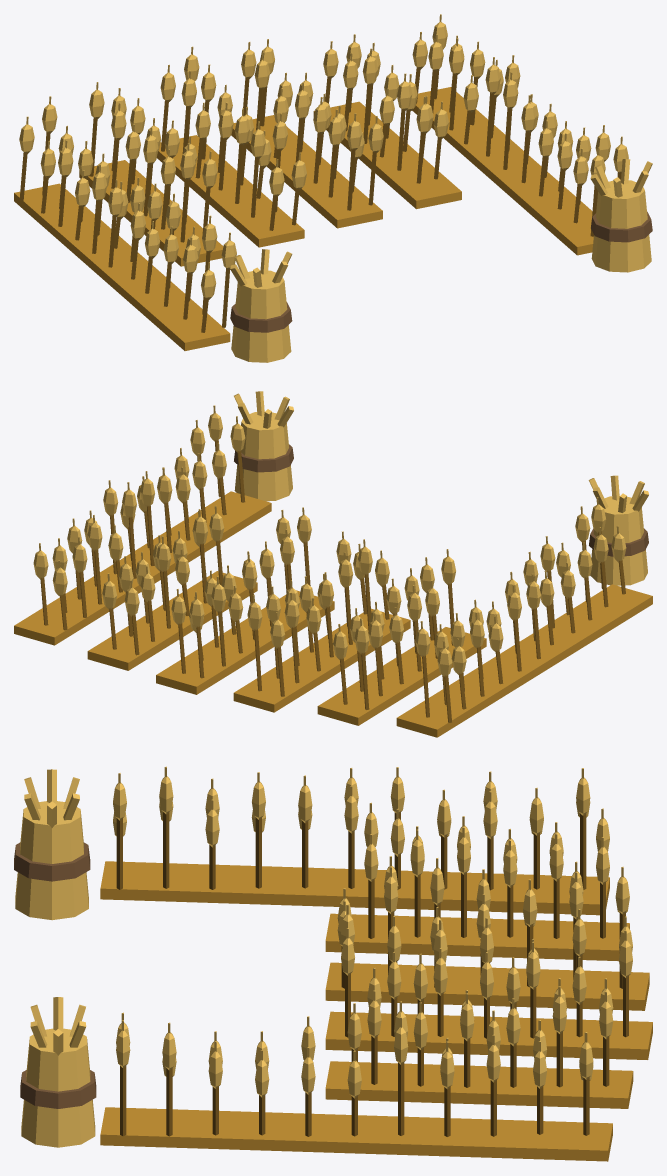
The model's file is terrain-field-1.glb.
The picture shows the model from 3 angles, top to bottom: view 1: azimuth 30°, elevation 25°; view 2: azimuth 150°, elevation 25°; view 3: azimuth 270°, elevation 25°; orthographic projection. The views are drawn at different scales.
Parts seen in each view (by area): view 1: terrain-field-1.002, terrain-field-1, terrain-field-1.001, terrain-field-1.003; view 2: terrain-field-1.002, terrain-field-1, terrain-field-1.001, terrain-field-1.003; view 3: terrain-field-1, terrain-field-1.002, terrain-field-1.001, terrain-field-1.003.
Part boxes in pixels (x1,y1,x2,y2): terrain-field-1.002: [19, 14, 652, 362]; terrain-field-1: [14, 87, 593, 350]; terrain-field-1.001: [19, 67, 621, 332]; terrain-field-1.003: [230, 211, 652, 332]; terrain-field-1.002: [33, 391, 648, 676]; terrain-field-1: [14, 491, 652, 737]; terrain-field-1.001: [40, 440, 625, 722]; terrain-field-1.003: [234, 444, 648, 556]; terrain-field-1: [100, 861, 652, 1161]; terrain-field-1.002: [15, 766, 632, 1147]; terrain-field-1.001: [116, 812, 628, 1136]; terrain-field-1.003: [14, 842, 96, 1108].
Size of the model in its own units: 1.09 by 0.2403 by 1.02.
